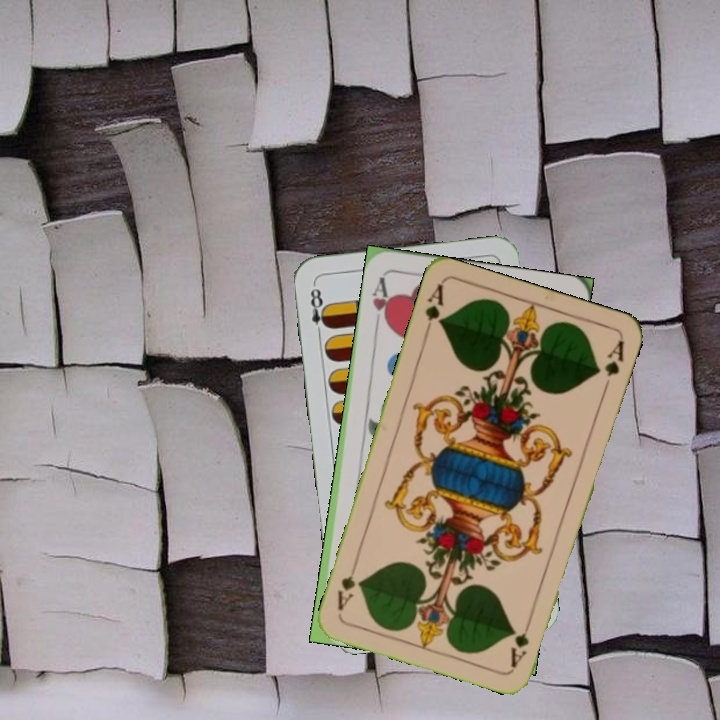E8: (306, 281, 332, 340)
GA: (506, 613, 535, 670), (420, 280, 446, 339)
HA: (368, 272, 394, 332)
